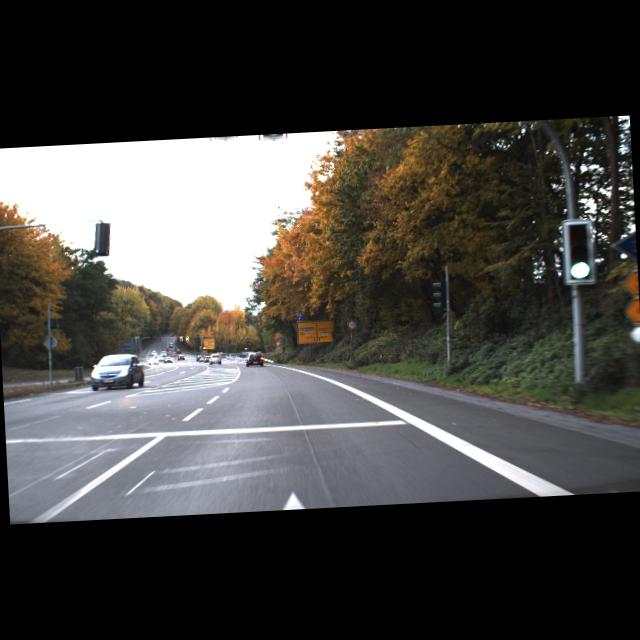prohibitory: (348, 321, 357, 330)
